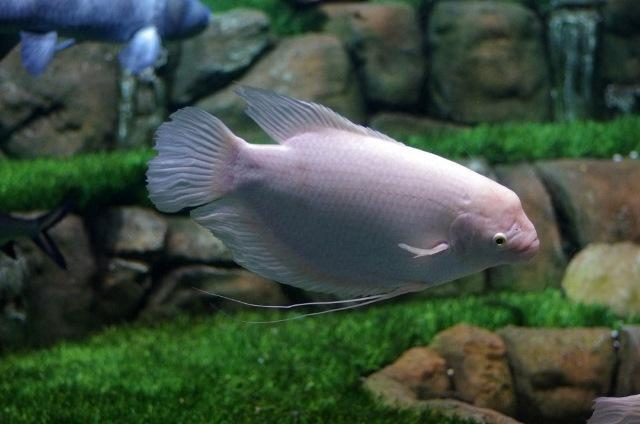Mulut: (473, 212, 561, 274)
Sirip Anal: (183, 187, 385, 301)
Sirip Dada: (386, 227, 460, 274)
Sirip Ekor: (133, 95, 250, 223)
Sirip Punggung: (232, 72, 413, 164)
